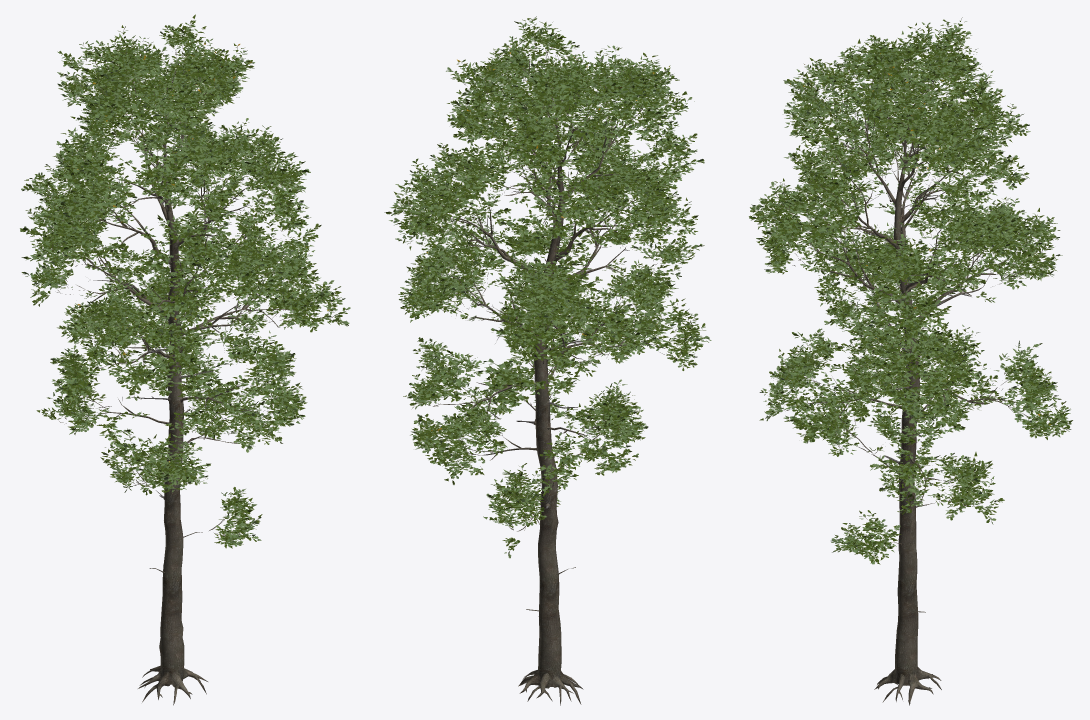
The model's file is quercus-robur-forest-ld-s41-proof.glb.
3 renders of one model, left to right at view 1: azimuth 30°, elevation 25°; view 2: azimuth 150°, elevation 25°; view 3: azimuth 270°, elevation 25°, orthographic.
Parts seen in each view (by area): view 1: ForestPlantCatalog_quercus-robur-forest-ld-s41; view 2: ForestPlantCatalog_quercus-robur-forest-ld-s41; view 3: ForestPlantCatalog_quercus-robur-forest-ld-s41.
Part boxes in pixels (x1=…): ForestPlantCatalog_quercus-robur-forest-ld-s41: x1=20, y1=14, x2=350, y2=705; ForestPlantCatalog_quercus-robur-forest-ld-s41: x1=384, y1=16, x2=711, y2=705; ForestPlantCatalog_quercus-robur-forest-ld-s41: x1=749, y1=17, x2=1072, y2=705.
Bounding box in the file's own units: 7.38 × 16 × 7.21.
14 materials, 14 textured.
